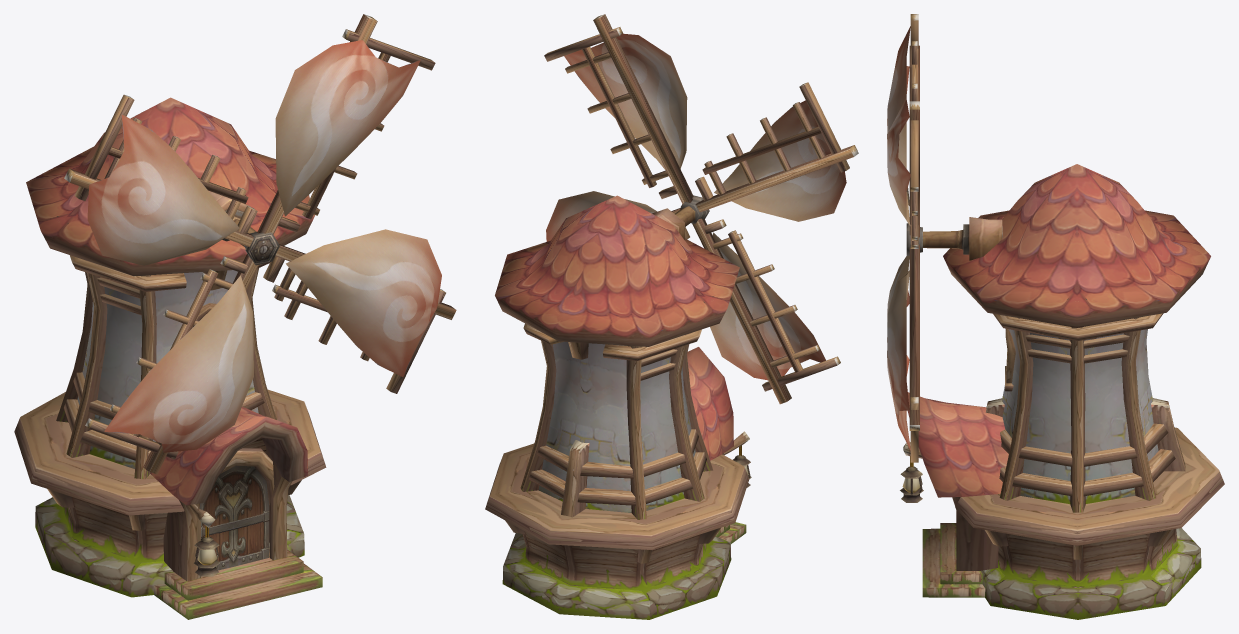
File: Map_Choose_house01.FBX
3 renders of one model, left to right at view 1: azimuth 30°, elevation 25°; view 2: azimuth 150°, elevation 25°; view 3: azimuth 270°, elevation 25°, orthographic. The views are drawn at different scales.
Visible parts, largest first — view 1: Map_Choose_house01a, Map_Choose_house01b; view 2: Map_Choose_house01a, Map_Choose_house01b; view 3: Map_Choose_house01a, Map_Choose_house01b.
Boxes of the visible parts, bbox=[...] form: Map_Choose_house01a: bbox=[14, 97, 326, 619]; Map_Choose_house01b: bbox=[64, 14, 456, 474]; Map_Choose_house01a: bbox=[485, 195, 751, 619]; Map_Choose_house01b: bbox=[544, 14, 858, 404]; Map_Choose_house01a: bbox=[900, 164, 1224, 619]; Map_Choose_house01b: bbox=[887, 14, 922, 462].
Size of the model in its own units: 938 by 1309 by 780.
1 material, 1 textured.
